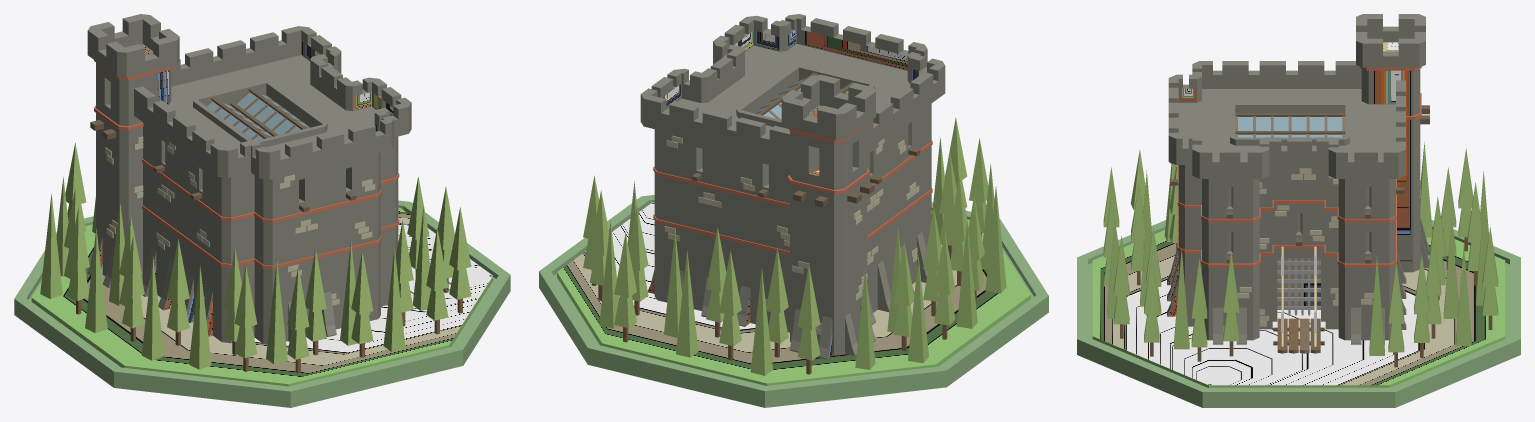
File: castle.obj
3 views of the same model, side by side, from view 1: azimuth 30°, elevation 25°; view 2: azimuth 150°, elevation 25°; view 3: azimuth 270°, elevation 25° (orthographic). The views are drawn at different scales.
Parts seen in each view (by area): view 1: Castle_, Platform, Tree_2.15, Tree_2.13, Tree_2.14, Tree_2.17, Tree_2.11, Tree_2.9, Tree_2.8, Tree_2.7, Tree_2.6, Tree_1.11 (+16 smaller); view 2: Castle_, Platform, Tree_2.19, Tree_2.4, Tree_2.3, Tree_2.1, Tree_2.17, Tree_2.18, Tree_1, Tree_1.1, Tree_2, Tree_1.8 (+17 smaller); view 3: Castle_, Platform, Tree_2.22, Tree_2.10, Tree_2.21, Tree_2.4, Tree_2.7, Tree_2.20, Tree_2.11, Tree_2.2, Tree_2.6, Tree_2.19 (+16 smaller).
Part boxes in pixels (x1,y1,x2,y2): Castle_: (87,14,411,344); Platform: (14,200,510,407); Tree_2.15: (234,265,257,371); Tree_2.13: (167,239,189,345); Tree_2.14: (122,235,144,341); Tree_2.17: (67,208,89,314); Tree_2.11: (449,207,471,313); Tree_2.9: (351,251,373,357); Tree_2.8: (287,267,309,373); Tree_2.7: (426,228,448,334); Tree_2.6: (305,249,326,355); Tree_1.11: (40,194,62,298); Castle_: (640,14,945,359); Platform: (539,195,1048,407); Tree_2.19: (797,265,820,374); Tree_2.4: (614,233,636,342); Tree_2.3: (719,251,741,360); Tree_2.1: (766,248,788,357); Tree_2.17: (934,230,955,339); Tree_2.18: (893,242,914,351); Tree_1: (676,249,698,357); Tree_1.1: (750,268,773,375); Tree_2: (706,227,726,337); Tree_1.8: (985,186,1006,293); Castle_: (1167,14,1429,353); Platform: (1077,220,1520,407); Tree_2.22: (1223,253,1239,356); Tree_2.10: (1191,258,1207,361); Tree_2.21: (1388,264,1404,367); Tree_2.4: (1482,227,1498,329); Tree_2.7: (1113,236,1129,338); Tree_2.20: (1414,254,1429,357); Tree_2.11: (1144,253,1159,356); Tree_2.2: (1426,236,1441,338); Tree_2.6: (1131,182,1145,285); Tree_2.19: (1458,148,1473,251).
Size of the model in its own units: 810 by 497 by 810.
Materials: 1 (1 with a texture image).
